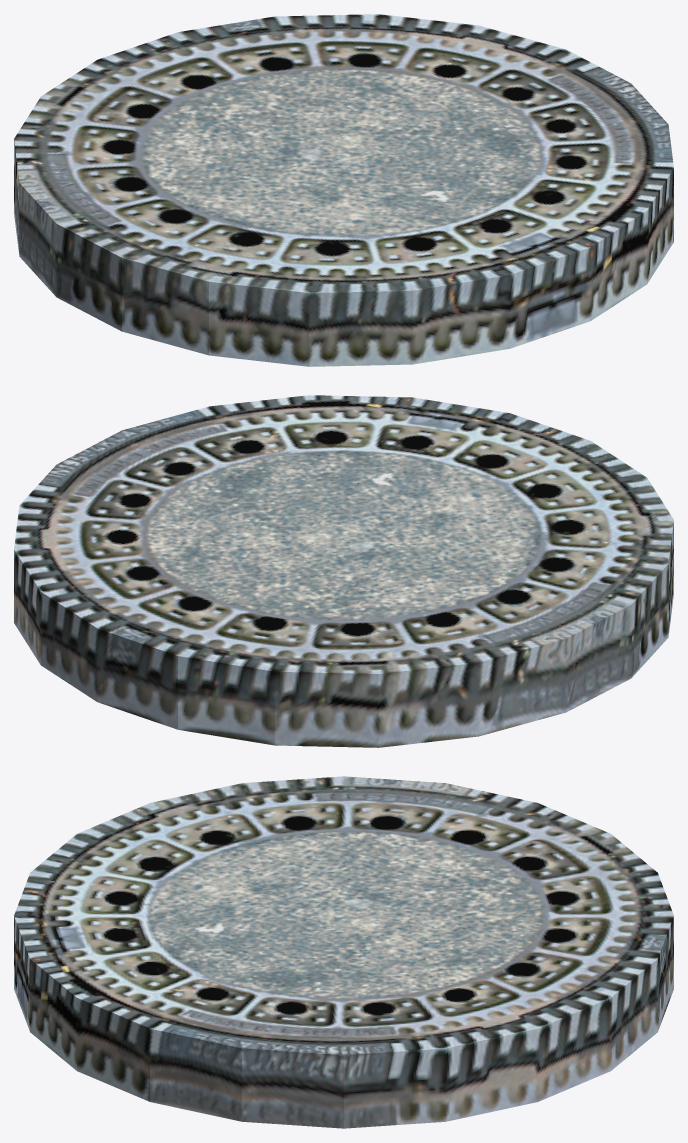
File: sewer_01.fbx
3 views of the same model, one above another, from view 1: azimuth 30°, elevation 25°; view 2: azimuth 150°, elevation 25°; view 3: azimuth 270°, elevation 25° (orthographic).
Parts seen in each view (by area): view 1: sewer_01; view 2: sewer_01; view 3: sewer_01.
Part boxes in pixels (x1,y1,x2,y2): sewer_01: [14, 14, 673, 366]; sewer_01: [14, 395, 673, 747]; sewer_01: [14, 776, 673, 1128].
Size of the model in its own units: 1.44 by 0.1764 by 1.44.
